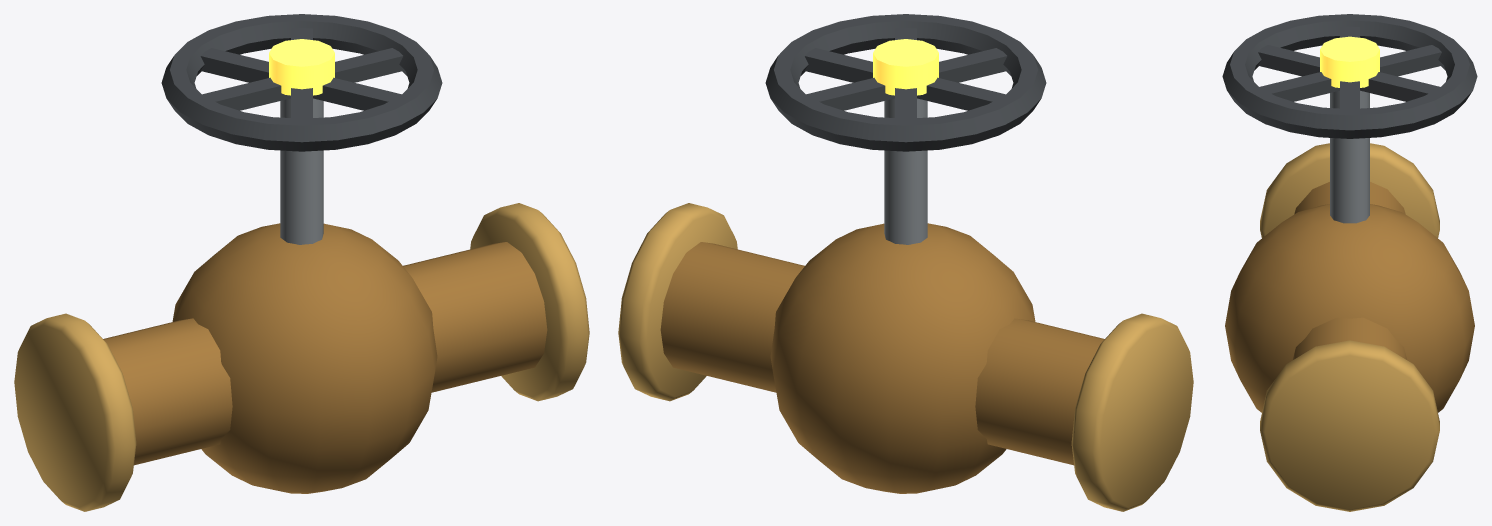
The model's file is part_valve.glb.
The picture shows the model from 3 angles, left to right: view 1: azimuth 30°, elevation 25°; view 2: azimuth 150°, elevation 25°; view 3: azimuth 270°, elevation 25°; orthographic projection. The views are drawn at different scales.
Parts seen in each view (by area): view 1: part_valve; view 2: part_valve; view 3: part_valve.
Part boxes in pixels (x1=…): part_valve: x1=14, y1=14, x2=589, y2=511; part_valve: x1=618, y1=14, x2=1193, y2=511; part_valve: x1=1222, y1=14, x2=1477, y2=511.
Size of the model in its own units: 0.202 by 0.172 by 0.102.
